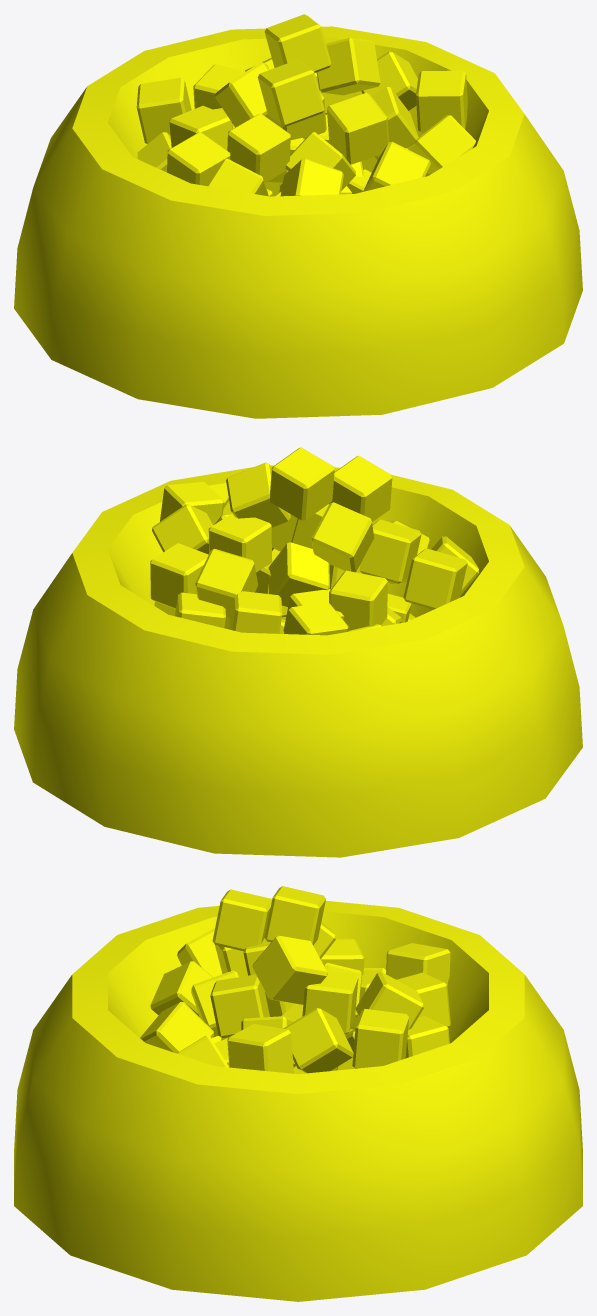
3 views of the same model, one above another, from view 1: azimuth 30°, elevation 25°; view 2: azimuth 150°, elevation 25°; view 3: azimuth 270°, elevation 25° (orthographic). The views are drawn at different scales.
Parts seen in each view (by area): view 1: cat_food; view 2: cat_food; view 3: cat_food.
Boxes of the visible parts, x1,y1,x2,y2 form: cat_food: (14,14,582,418); cat_food: (14,447,582,857); cat_food: (14,886,582,1301).
Size of the model in its own units: 0.00697 by 0.00378 by 0.00679.
1 material, 1 textured.
